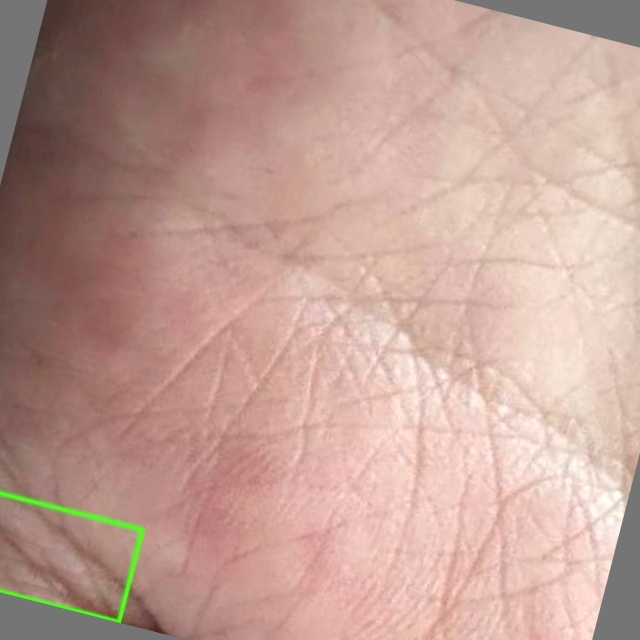Contact Dermatitis: (0, 493, 142, 622)
